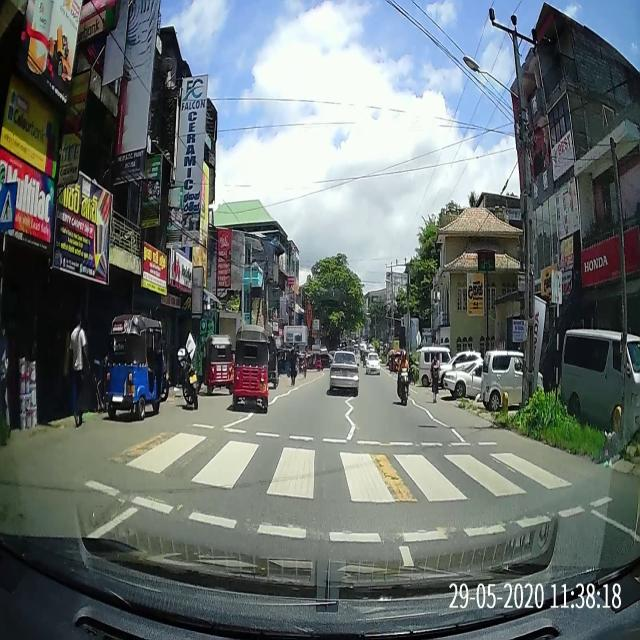Crosswalk: (68, 418, 626, 550)
